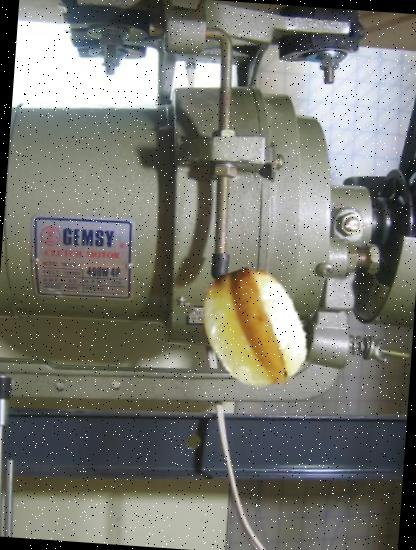Carambula: (186, 263, 322, 399)
